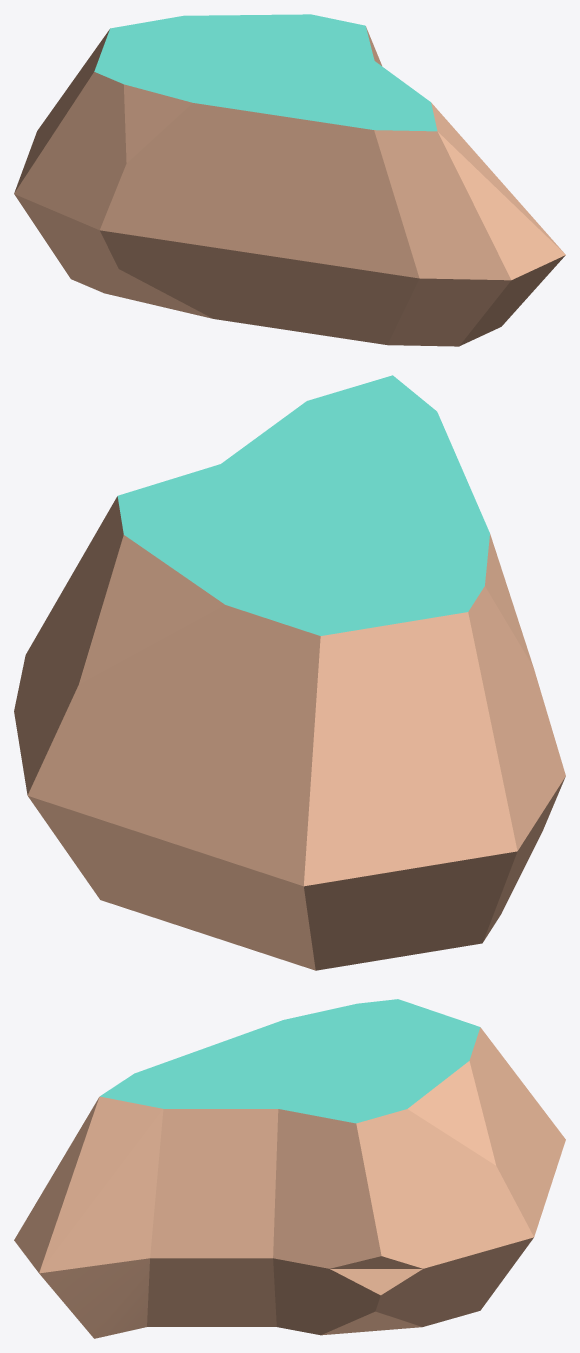
The model's file is rock_largeB.glb.
3 renders of one model, top to bottom at view 1: azimuth 30°, elevation 25°; view 2: azimuth 150°, elevation 25°; view 3: azimuth 270°, elevation 25°, orthographic. The views are drawn at different scales.
Visible parts, largest first — view 1: rock_largeB; view 2: rock_largeB; view 3: rock_largeB.
Part boxes in pixels (x1=…): rock_largeB: x1=14, y1=14, x2=565, y2=346; rock_largeB: x1=14, y1=375, x2=565, y2=970; rock_largeB: x1=14, y1=999, x2=565, y2=1338.
Bounding box in the file's own units: 0.7667 × 0.4303 × 1.02.
Materials: 1 (1 with a texture image).
